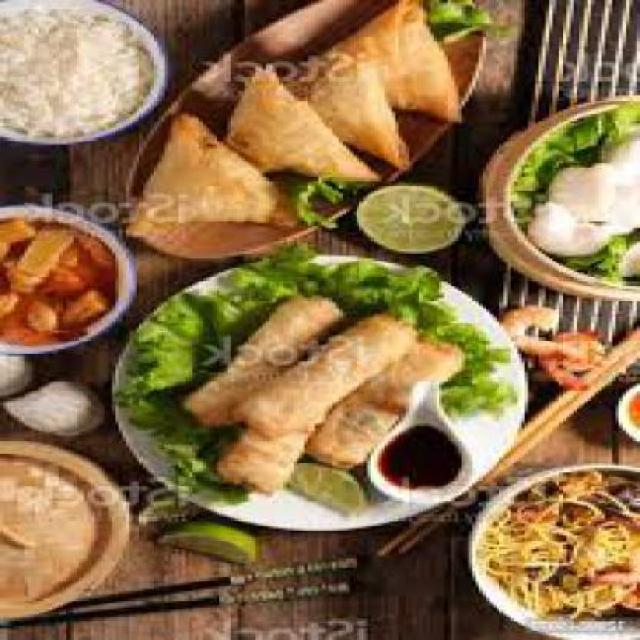fried rice: (4, 2, 171, 142)
samosa: (122, 9, 487, 245)
spring rolls: (178, 307, 462, 491)
